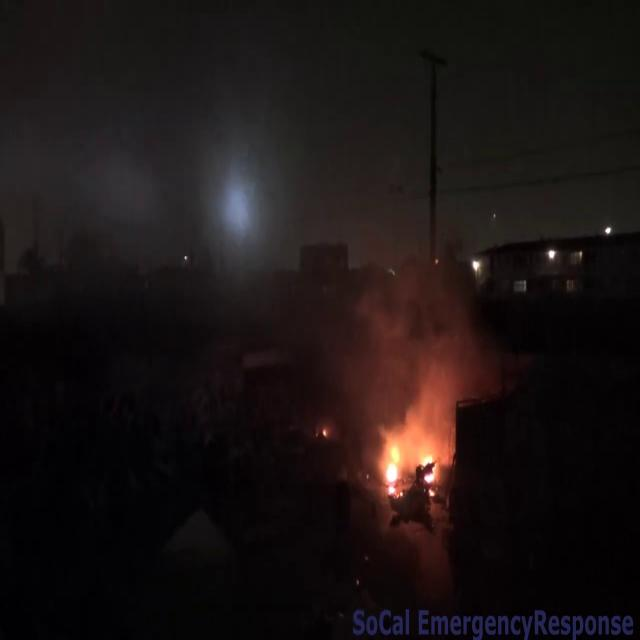Fire: (378, 426, 442, 490)
Smoke: (351, 227, 515, 422)
